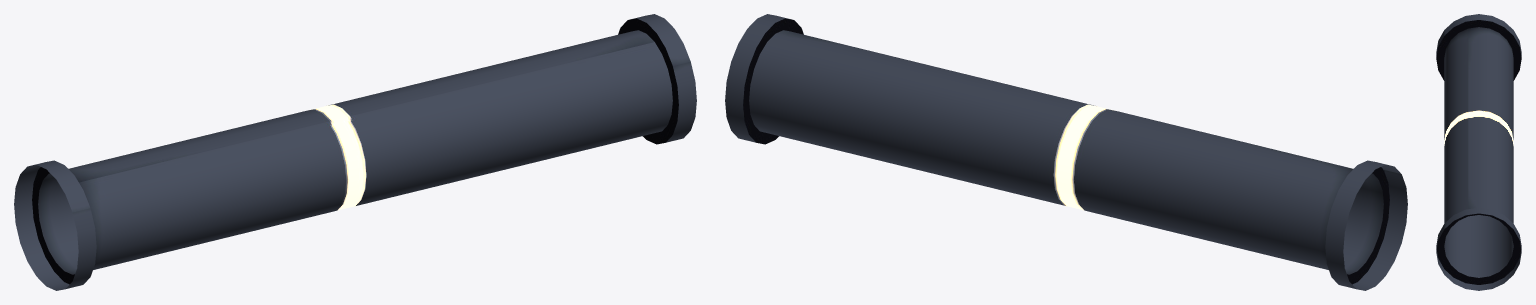
Rendered from FUT0510020.fbx.
3 renders of one model, left to right at view 1: azimuth 30°, elevation 25°; view 2: azimuth 150°, elevation 25°; view 3: azimuth 270°, elevation 25°, orthographic. The views are drawn at different scales.
Visible parts, largest first — view 1: smFUT0510020; view 2: smFUT0510020; view 3: smFUT0510020.
Part boxes in pixels (box(x1,y1,x2,y2)): smFUT0510020: box(14, 14, 696, 290); smFUT0510020: box(725, 14, 1407, 290); smFUT0510020: box(1436, 14, 1521, 290).
Size of the model in its own units: 176 by 31.88 by 31.88.
Materials: 1 (1 with a texture image).
